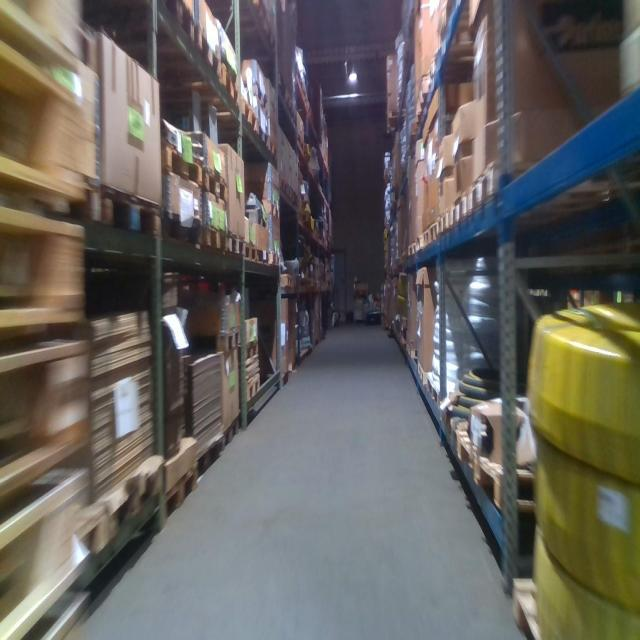pallet: (1, 34, 96, 198), (0, 334, 87, 500), (2, 476, 86, 634), (2, 200, 87, 334), (455, 422, 536, 515), (106, 450, 163, 544), (101, 184, 161, 237), (164, 459, 199, 523), (159, 140, 203, 187), (468, 162, 501, 220), (161, 207, 203, 248), (160, 4, 197, 49), (197, 30, 223, 89), (193, 322, 242, 352), (239, 84, 258, 137), (425, 368, 451, 404), (220, 62, 238, 110), (204, 166, 228, 201), (203, 224, 226, 258), (224, 412, 241, 453), (451, 189, 466, 234), (245, 369, 262, 404), (226, 231, 245, 257), (436, 210, 451, 240), (260, 198, 280, 218), (244, 338, 258, 365), (258, 118, 269, 151), (417, 360, 428, 387), (280, 272, 296, 290), (245, 241, 258, 263), (285, 84, 293, 119), (405, 340, 419, 359), (429, 219, 438, 248), (422, 226, 430, 253), (278, 172, 287, 196), (268, 249, 280, 266), (268, 140, 277, 160), (415, 233, 423, 254), (296, 133, 304, 152), (408, 243, 415, 258), (290, 183, 295, 203)
